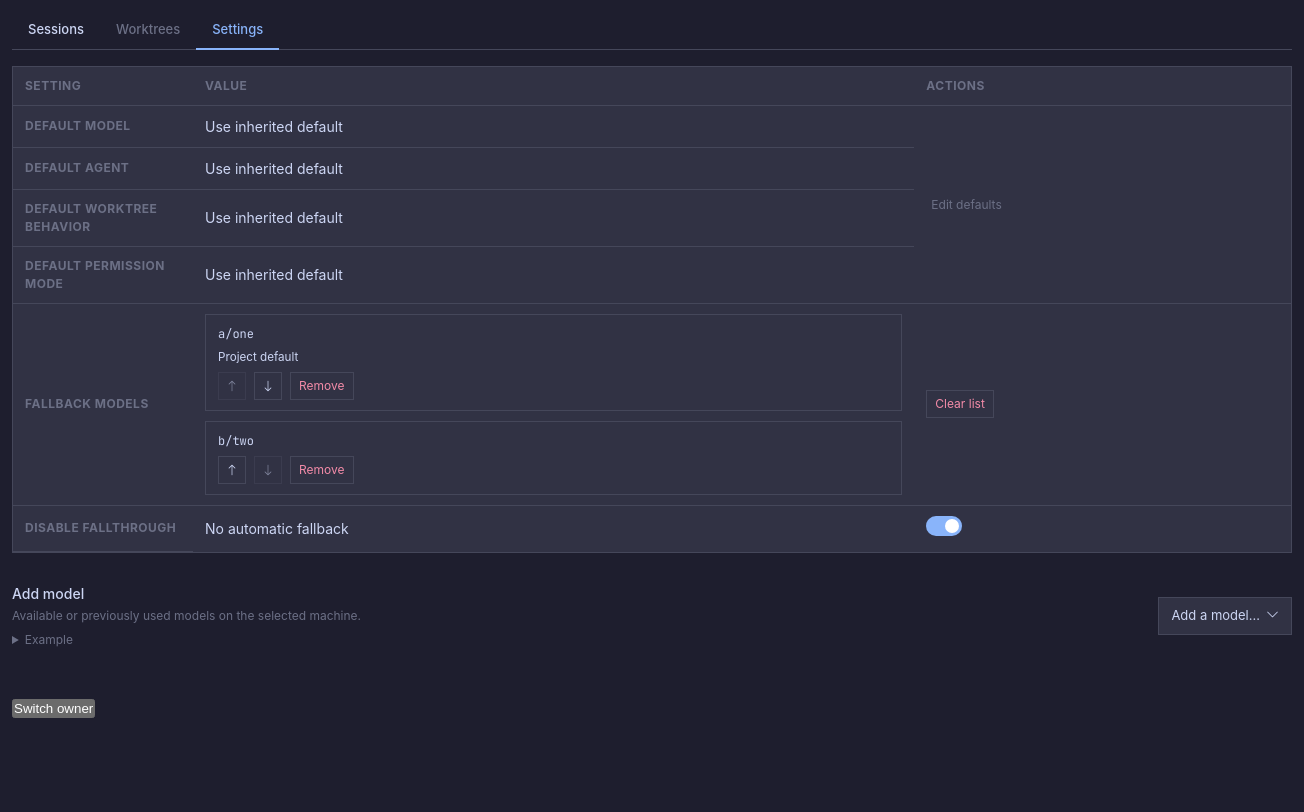
ProjectSettingsView › clears the list
Click the button "Clear list".
click(960, 404)  # box [926,390,994,418]
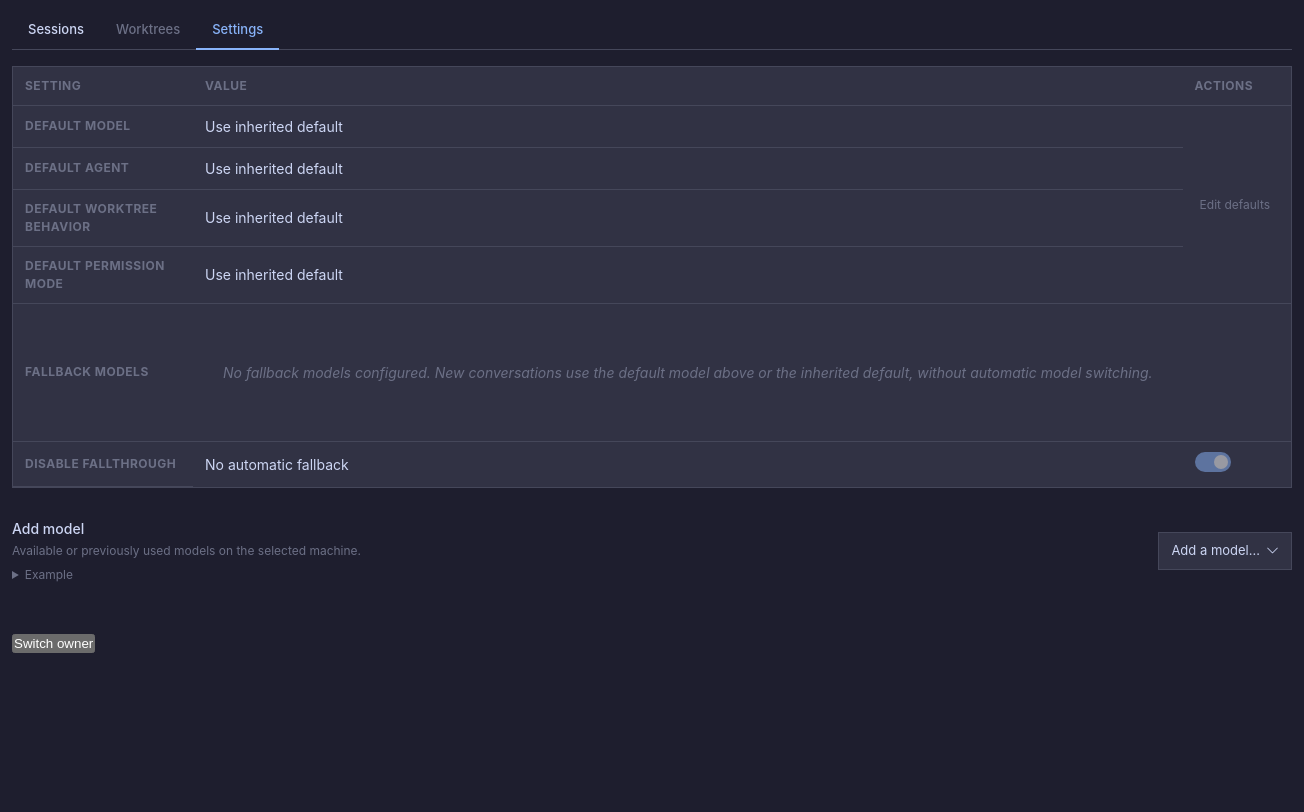
Expected: the text with test id "project-models-empty" is shown, [223,364,1153,380]
